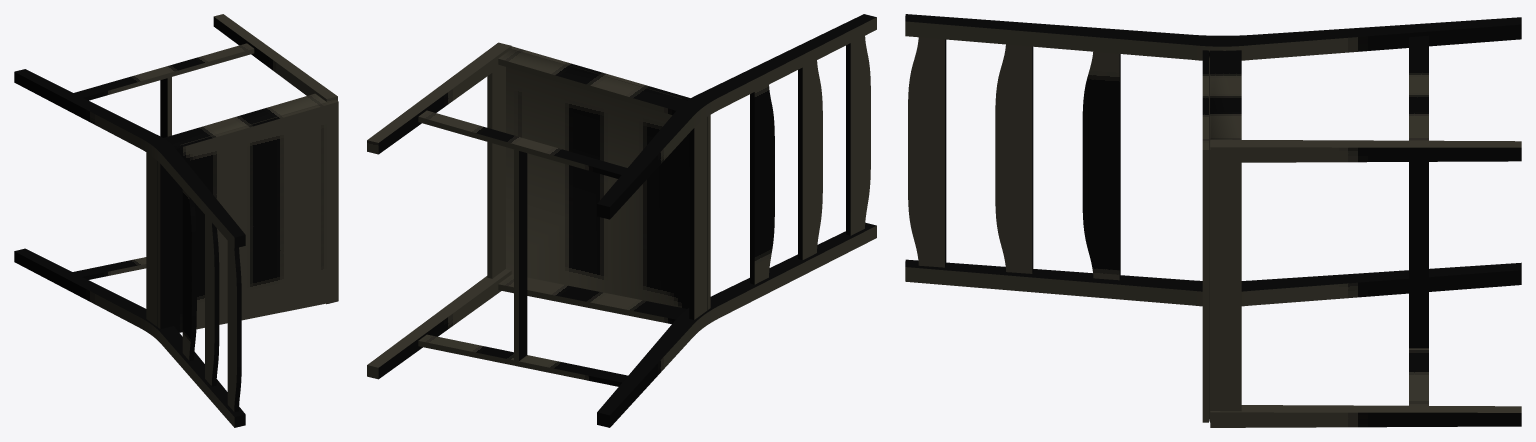
File: straight_chair-ocyvcb-0.obj
3 views of the same model, side by side, from view 1: azimuth 30°, elevation 25°; view 2: azimuth 150°, elevation 25°; view 3: azimuth 270°, elevation 25° (orthographic). The views are drawn at different scales.
Size of the model in its own units: 0.4935 by 0.4506 by 0.8967.
Materials: 1 (1 with a texture image).
